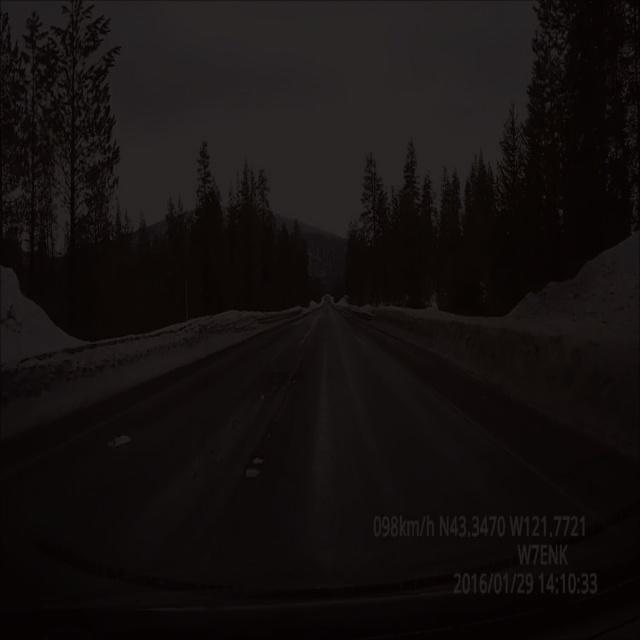Pothole: (262, 357, 306, 409), (238, 449, 270, 484), (105, 429, 136, 455)
